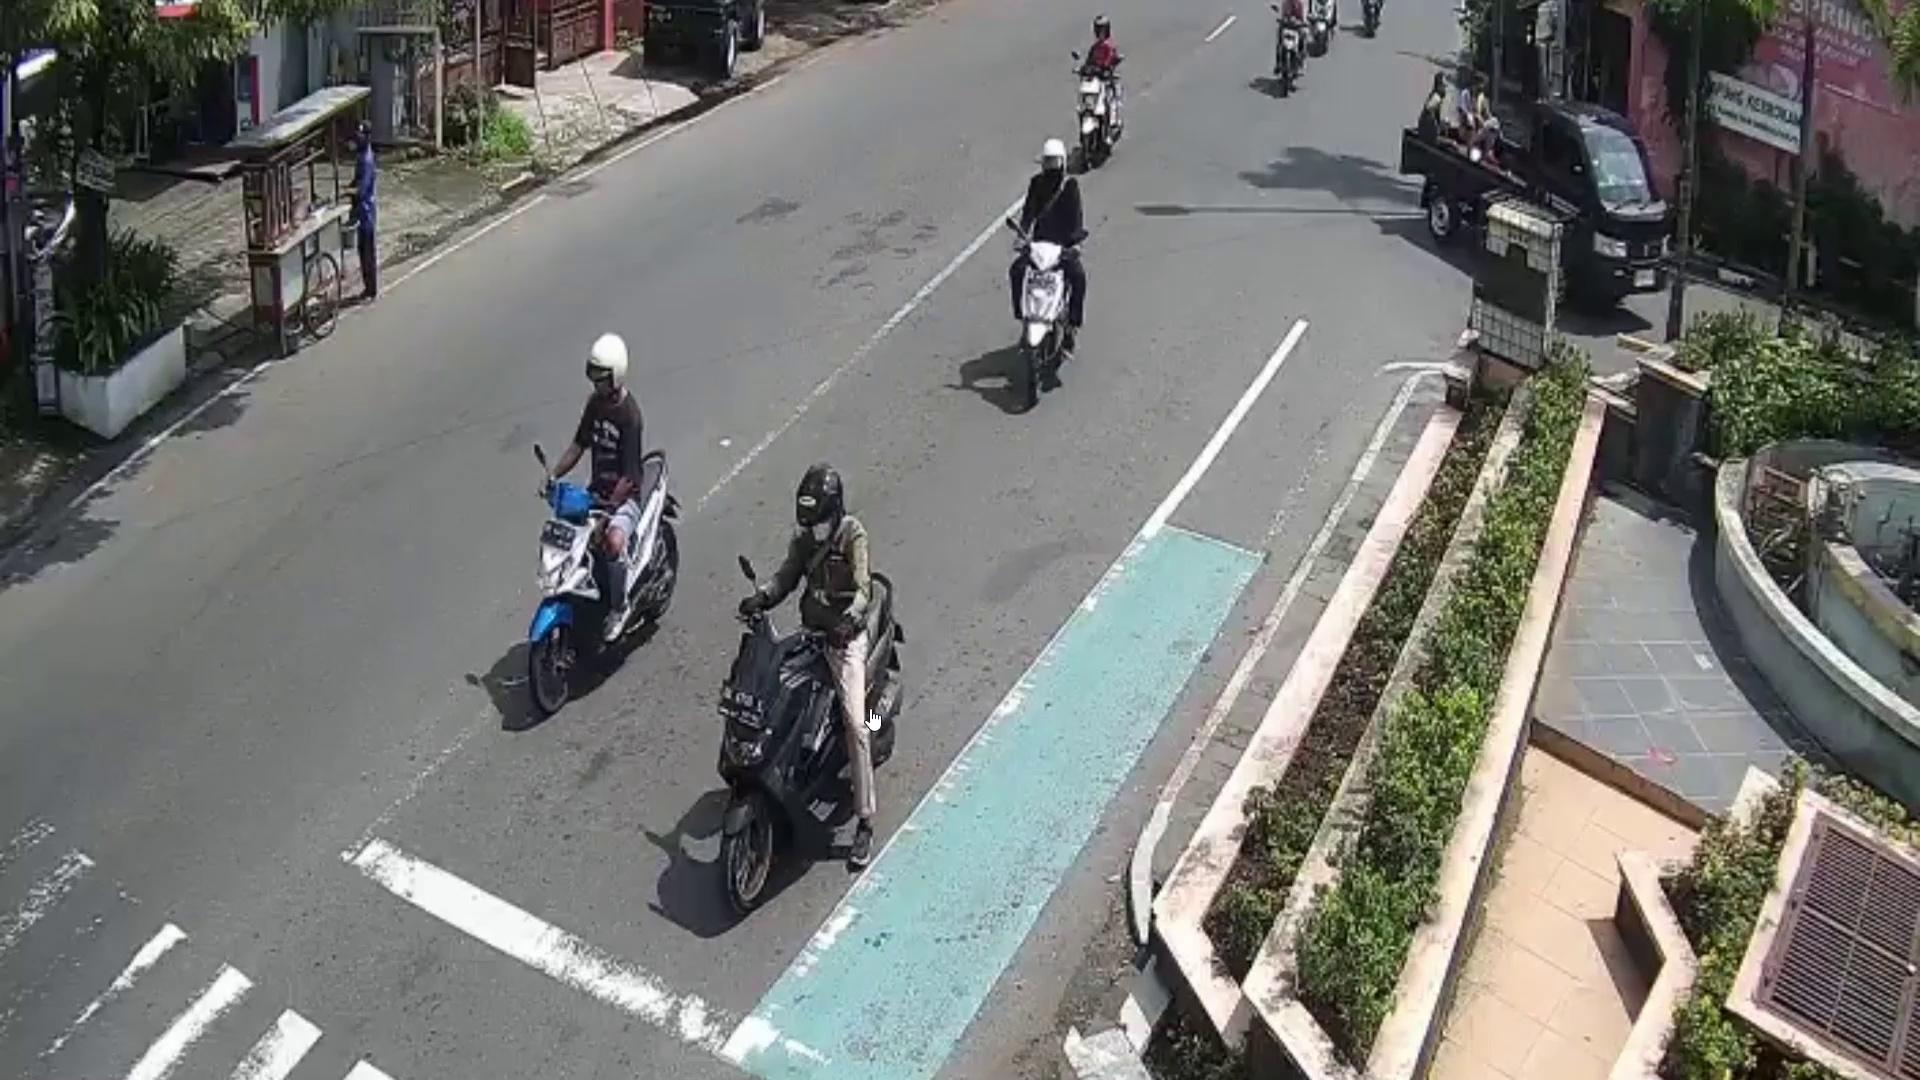car: (1399, 95, 1668, 327)
motorbike: (717, 572, 901, 916), (530, 450, 679, 709), (1015, 239, 1073, 415), (1079, 63, 1124, 170)
